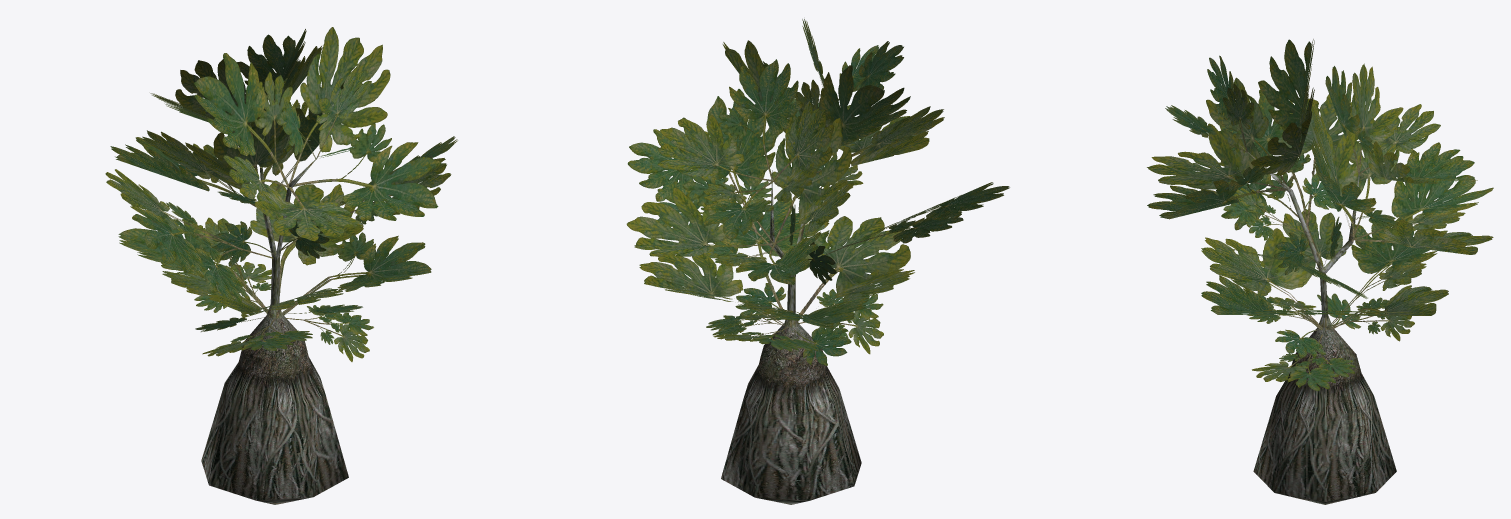
File: leaf_palmbush_l0.fbx
The picture shows the model from 3 angles, left to right: view 1: azimuth 30°, elevation 25°; view 2: azimuth 150°, elevation 25°; view 3: azimuth 270°, elevation 25°; orthographic projection. The views are drawn at different scales.
Parts seen in each view (by area): view 1: mesh_node; view 2: mesh_node; view 3: mesh_node.
Boxes of the visible parts, box(x1,y1,x2,y2) form: mesh_node: box(105, 27, 457, 504); mesh_node: box(626, 19, 1009, 504); mesh_node: box(1147, 39, 1493, 504).
Bounding box in the file's own units: 3.74 × 4.17 × 3.18.
